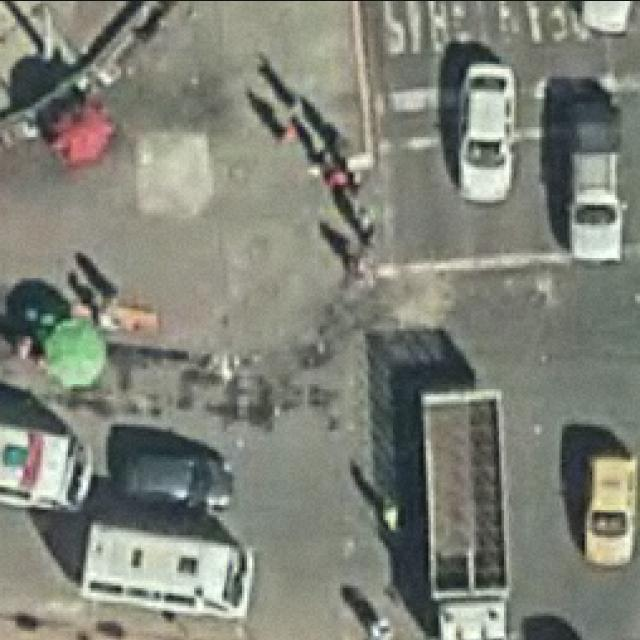vendedor_ambulante: (30, 311, 116, 393), (42, 89, 121, 173)
